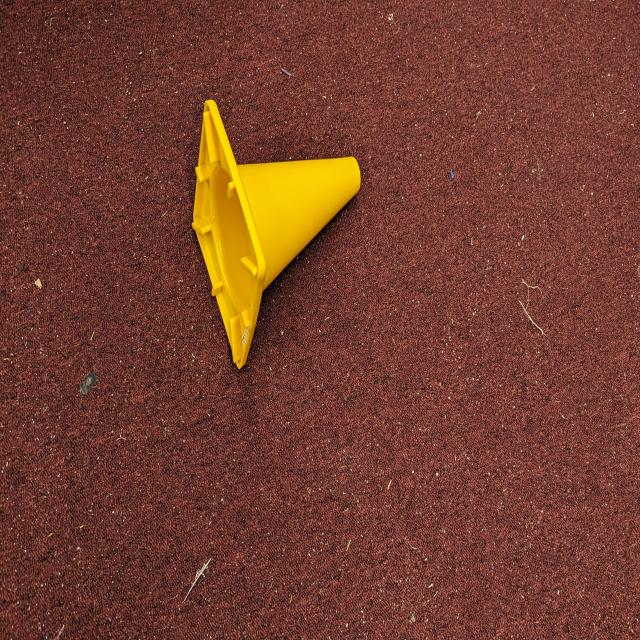frc_cone: (190, 94, 362, 370)
